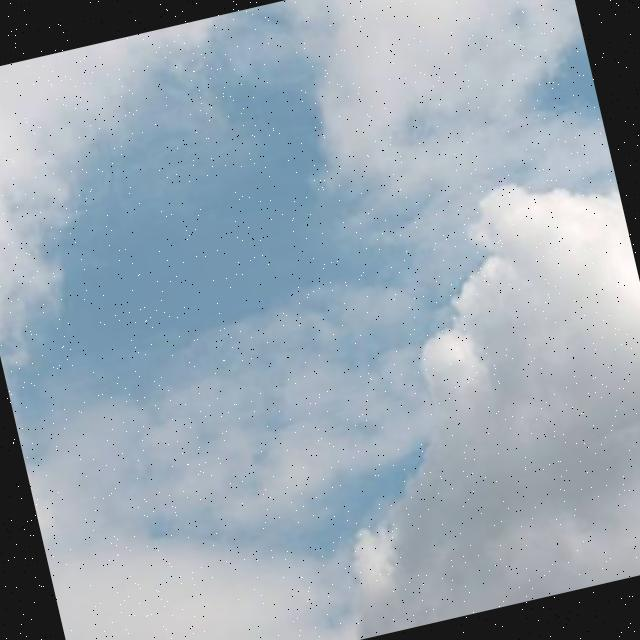As: (253, 155, 640, 640)
